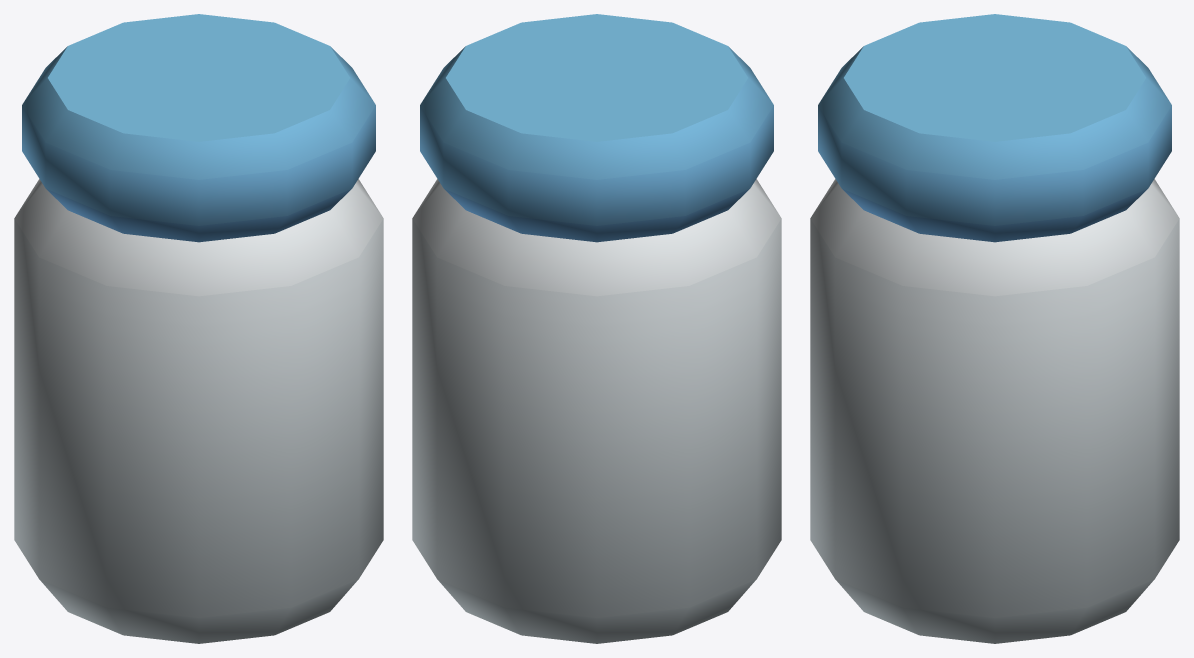
Rendered from jar_A_large.glb.
The picture shows the model from 3 angles, left to right: view 1: azimuth 30°, elevation 25°; view 2: azimuth 150°, elevation 25°; view 3: azimuth 270°, elevation 25°; orthographic projection.
Parts seen in each view (by area): view 1: jar_A_large; view 2: jar_A_large; view 3: jar_A_large.
Boxes of the visible parts, <box> form: jar_A_large: <box>14,14,383,643</box>; jar_A_large: <box>412,14,781,643</box>; jar_A_large: <box>810,14,1179,643</box>.
Size of the model in its own units: 0.5 by 0.75 by 0.5.
1 material, 1 textured.
